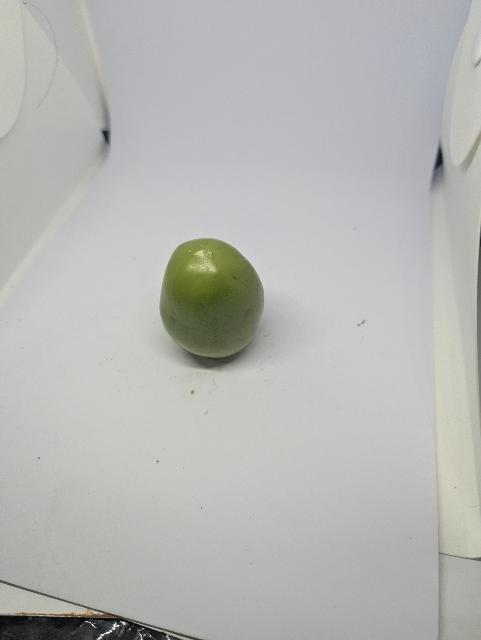green: (158, 235, 268, 376)
